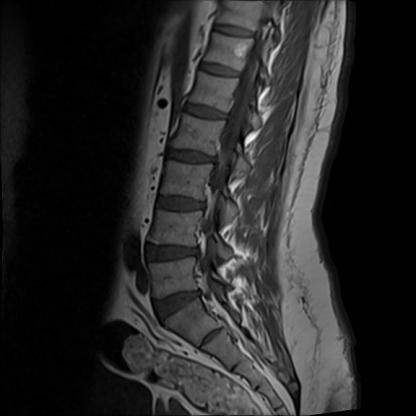Disc Bulgerotation: (148, 287, 209, 324), (141, 237, 207, 270)
